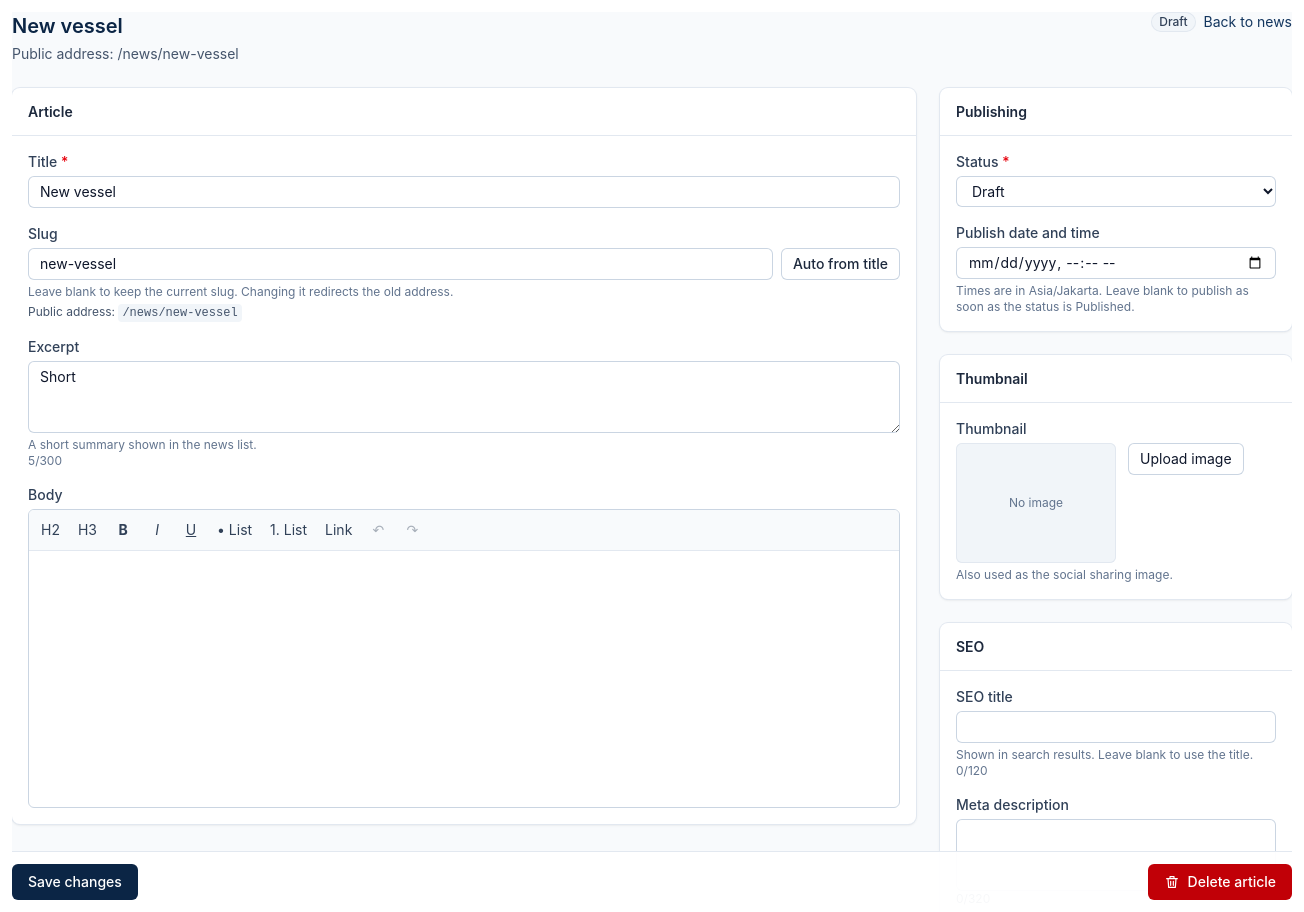
NewsFormPage › suggests publishing when a draft has a future date
Step 1. Type "2999-11-01T10:00" into the field labelled "Publish date and time" → (1116, 263), box x1=956 y1=247 x2=1276 y2=279
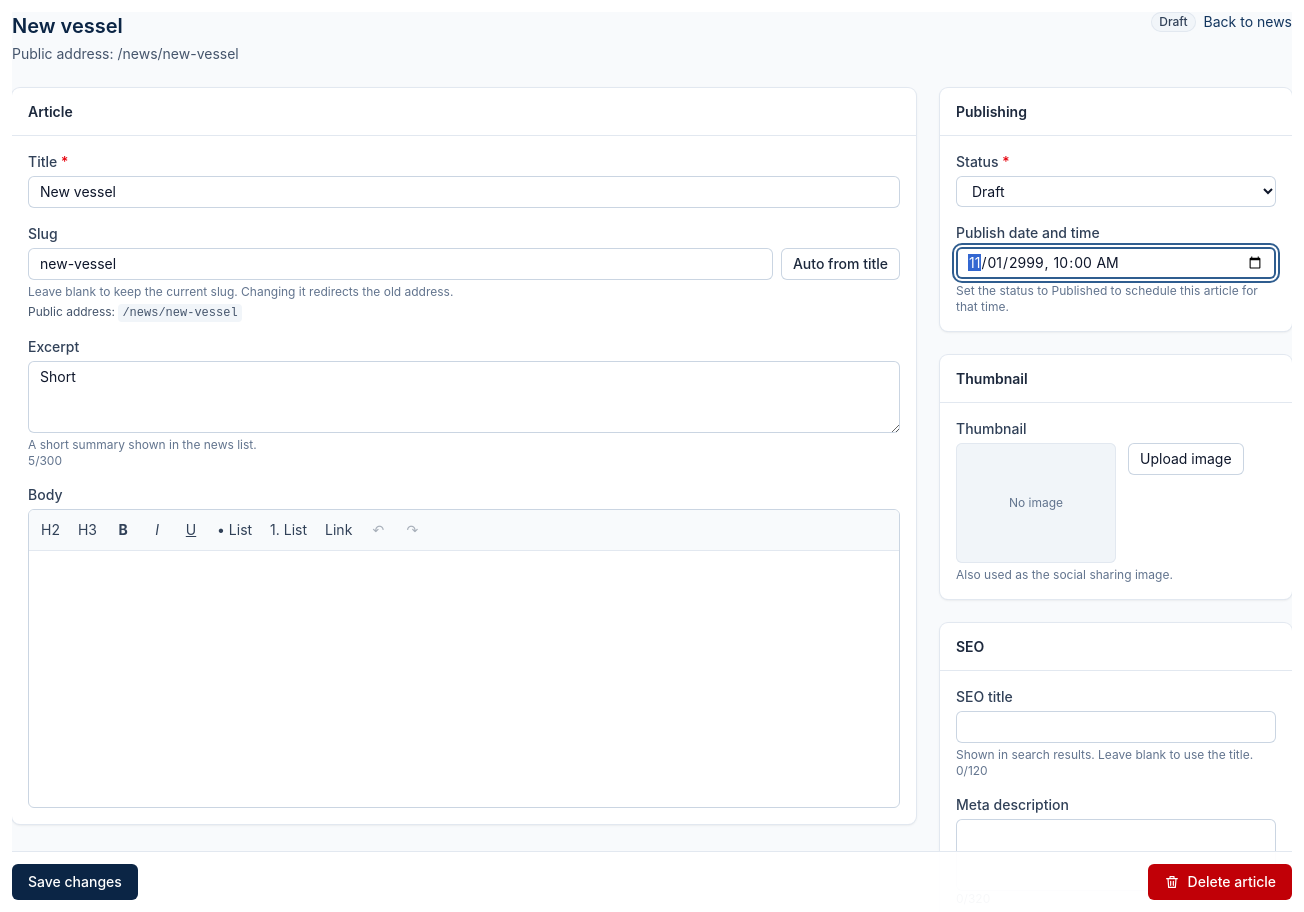
Expected: the text "Set the status to Published" is shown, x1=956 y1=283 x2=1258 y2=314
